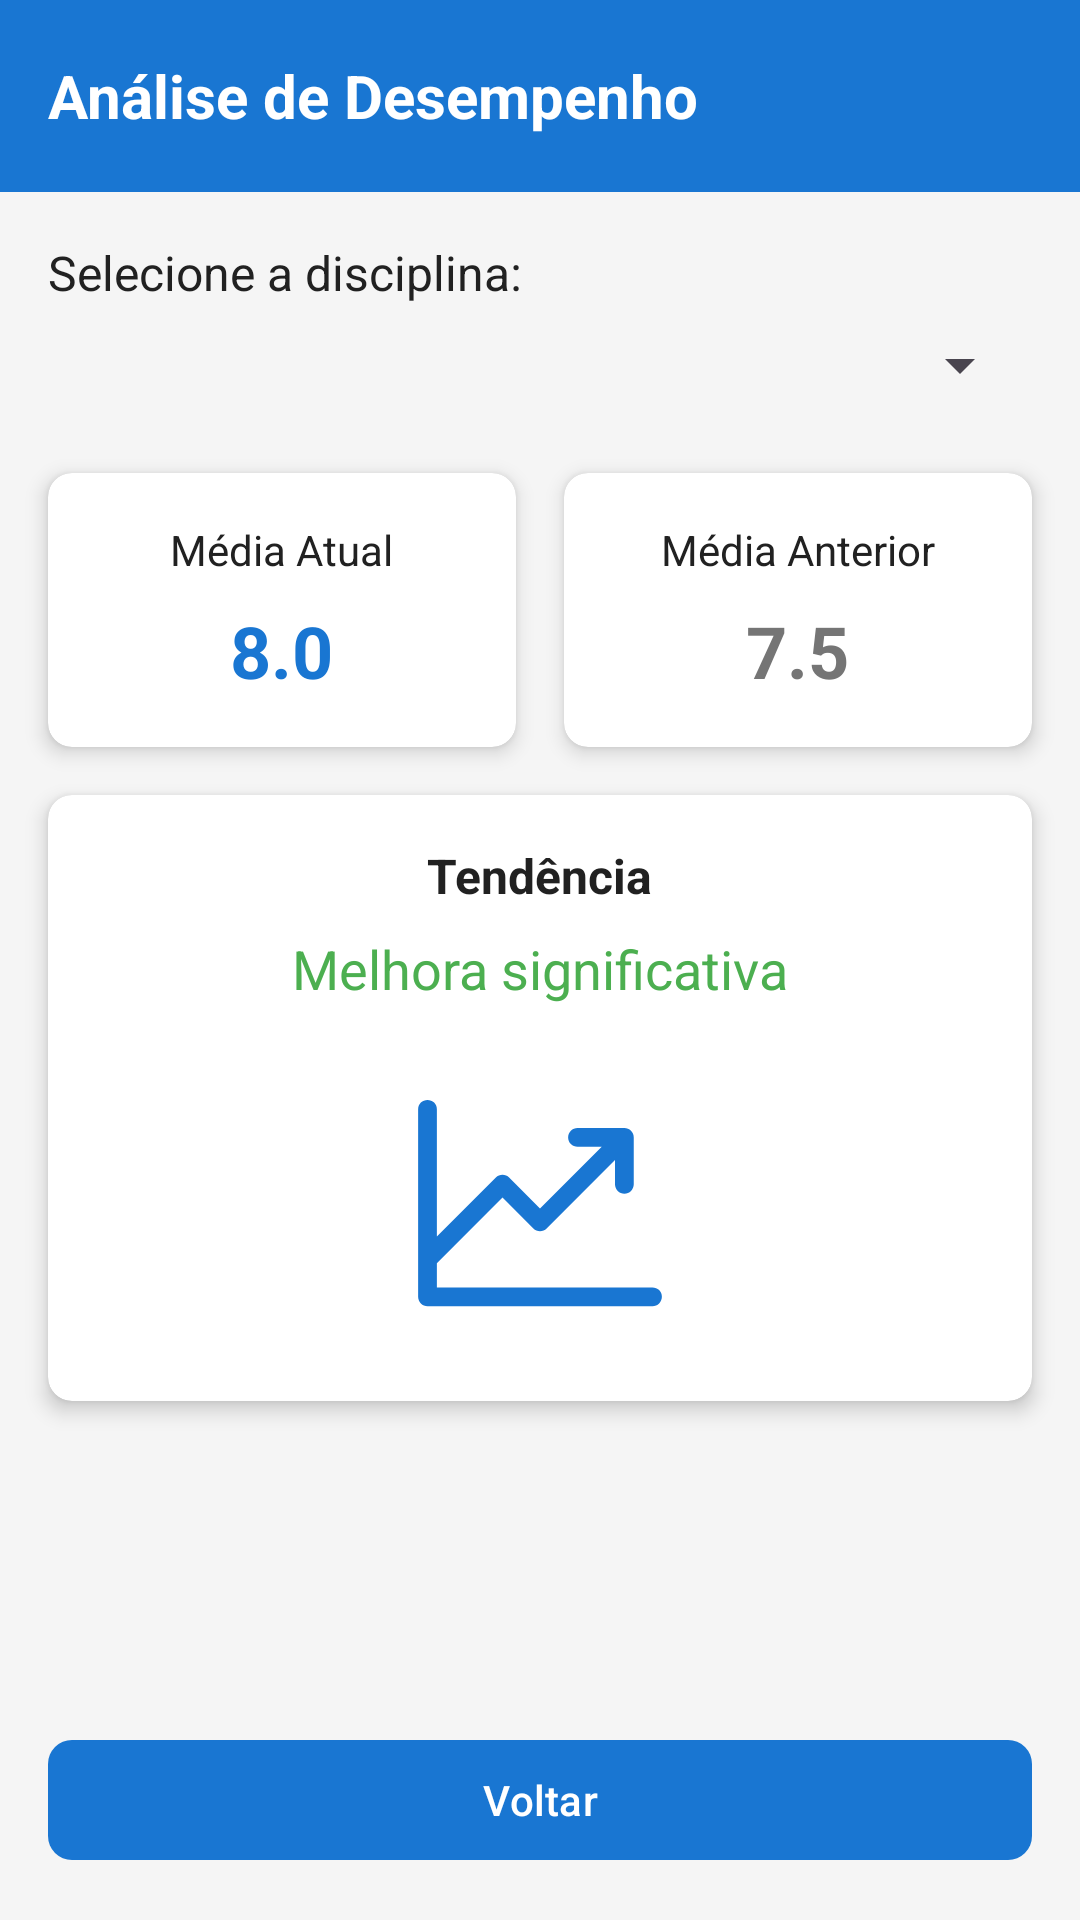

Named icons in this screenshot (1080x1920) and their centers, (x=x, y=y):
chartlineup: (x=540, y=1203)
